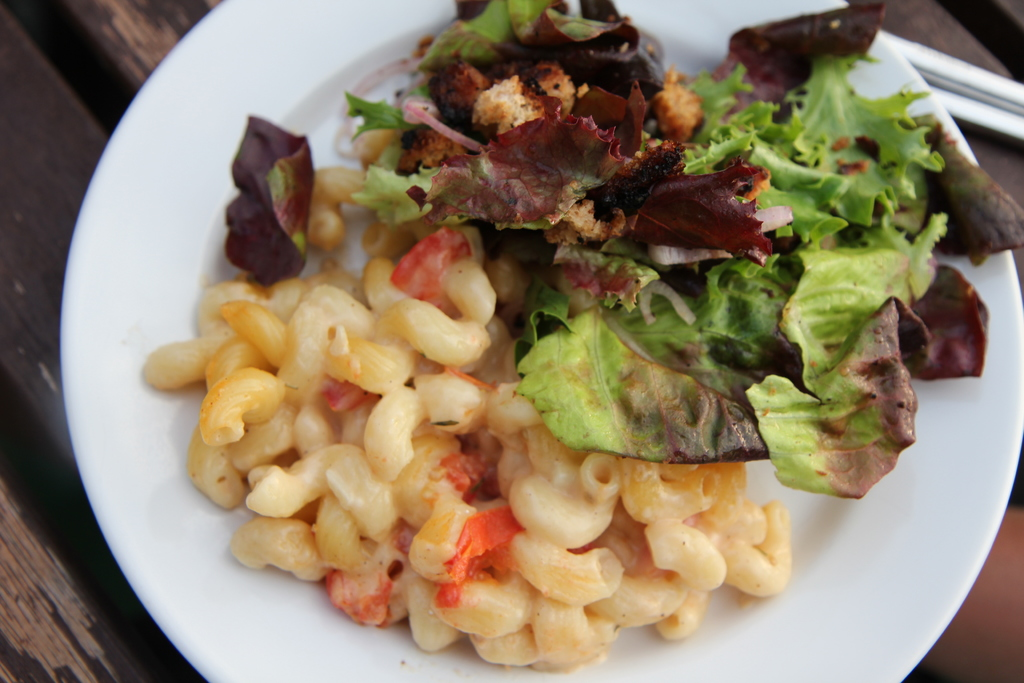pasta: (141, 131, 790, 668)
